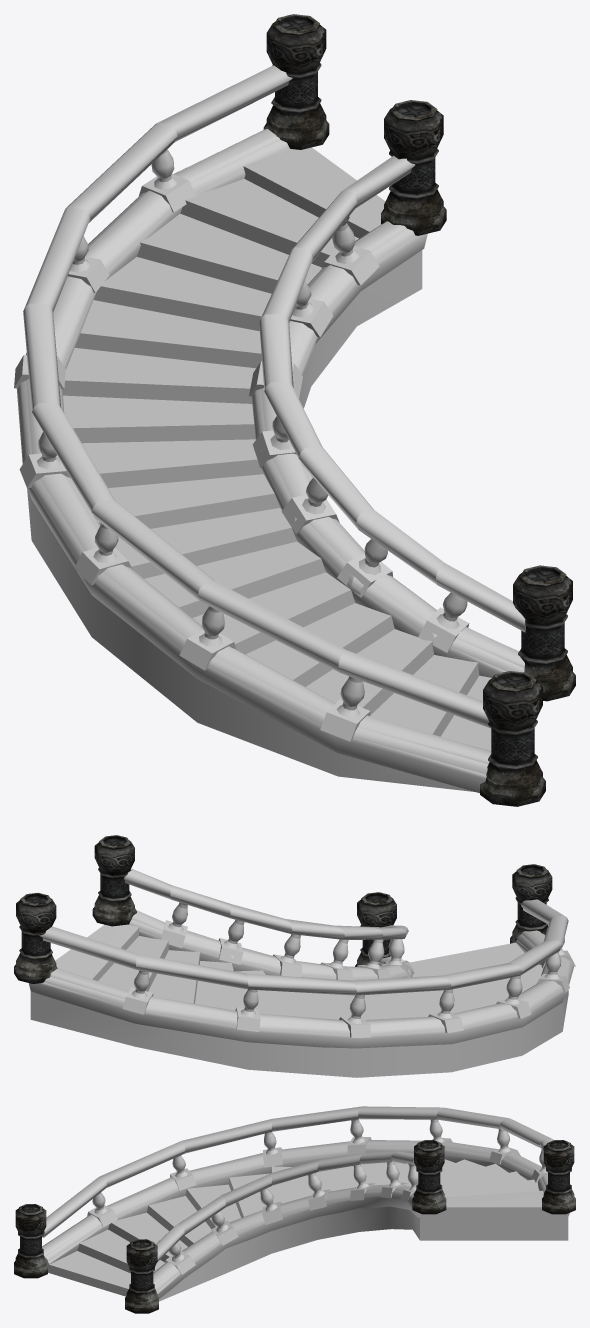
File: round_floating_left.dae
The picture shows the model from 3 angles, top to bottom: view 1: azimuth 30°, elevation 25°; view 2: azimuth 150°, elevation 25°; view 3: azimuth 270°, elevation 25°; orthographic projection. The views are drawn at different scales.
Parts seen in each view (by area): view 1: polySurface114, polySurface113, polySurface112; view 2: polySurface113, polySurface114, polySurface112; view 3: polySurface113, polySurface114, polySurface112.
Part boxes in pixels (x1,y1,x2,y2): polySurface114: (27, 147, 491, 791); polySurface113: (14, 65, 525, 793); polySurface112: (263, 14, 575, 806); polySurface113: (29, 868, 575, 1048); polySurface114: (30, 924, 568, 1077); polySurface112: (14, 835, 552, 983); polySurface113: (42, 1106, 569, 1298); polySurface114: (46, 1159, 568, 1301); polySurface112: (14, 1140, 575, 1313).
Size of what is drawn, in the model's own units: 859 by 593 by 1517.
